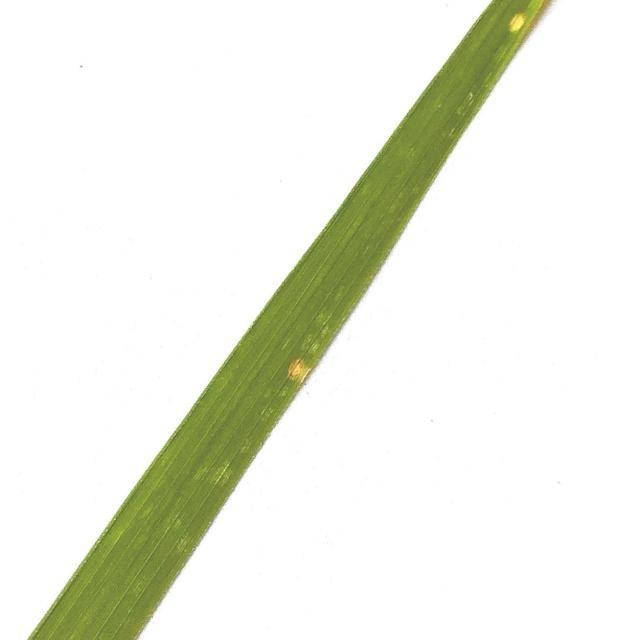Rice_Blast: (276, 338, 322, 390), (503, 6, 529, 35)
